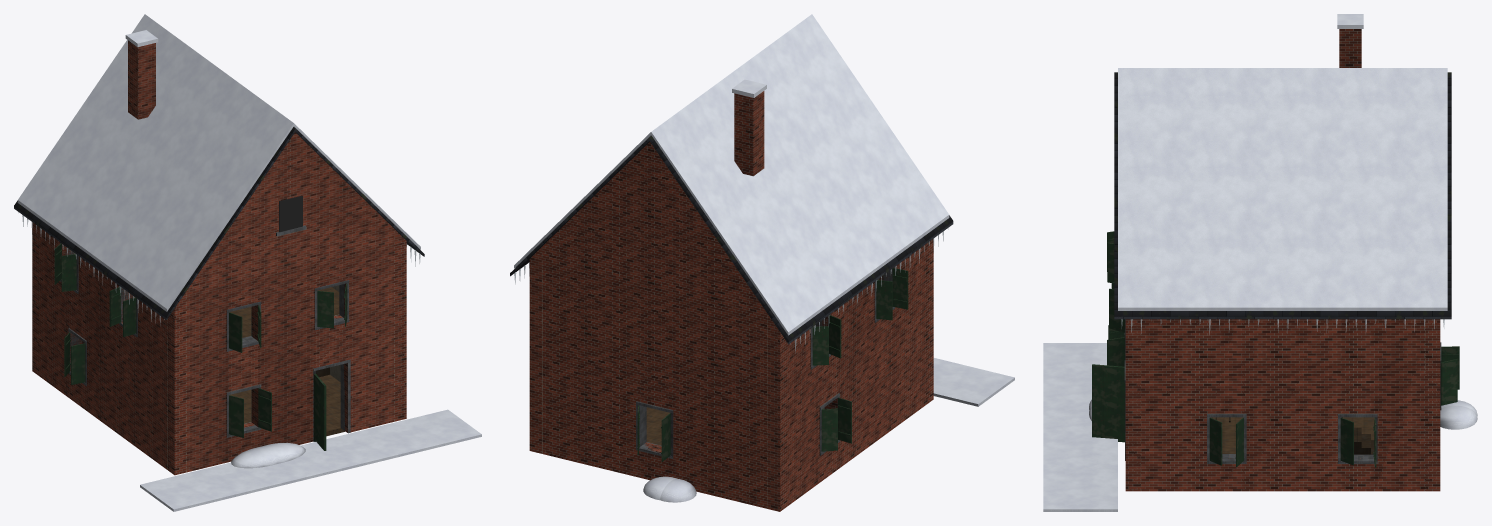
File: belgian_house.glb
The picture shows the model from 3 angles, left to right: view 1: azimuth 30°, elevation 25°; view 2: azimuth 150°, elevation 25°; view 3: azimuth 270°, elevation 25°; orthographic projection. The views are drawn at different scales.
Visible parts, largest first — view 1: BelgianHouse, Door; view 2: BelgianHouse; view 3: BelgianHouse, Door.
Boxes of the visible parts, bbox=[...] form: BelgianHouse: bbox=[14, 14, 481, 511]; Door: bbox=[314, 373, 326, 450]; BelgianHouse: bbox=[510, 14, 1014, 511]; BelgianHouse: bbox=[1043, 14, 1477, 511]; Door: bbox=[1092, 364, 1124, 442].
Bounding box in the file's own units: 10.5 × 11.46 × 11.6.
Materials: 11 (9 with a texture image).
